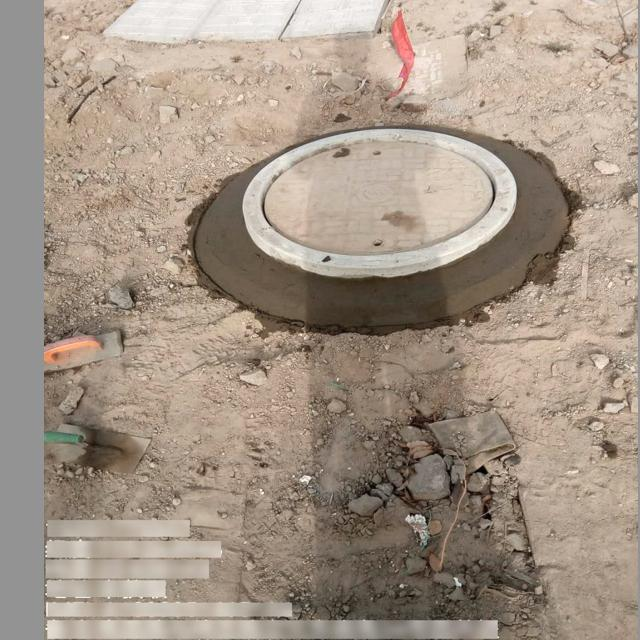good: (240, 127, 518, 277)
